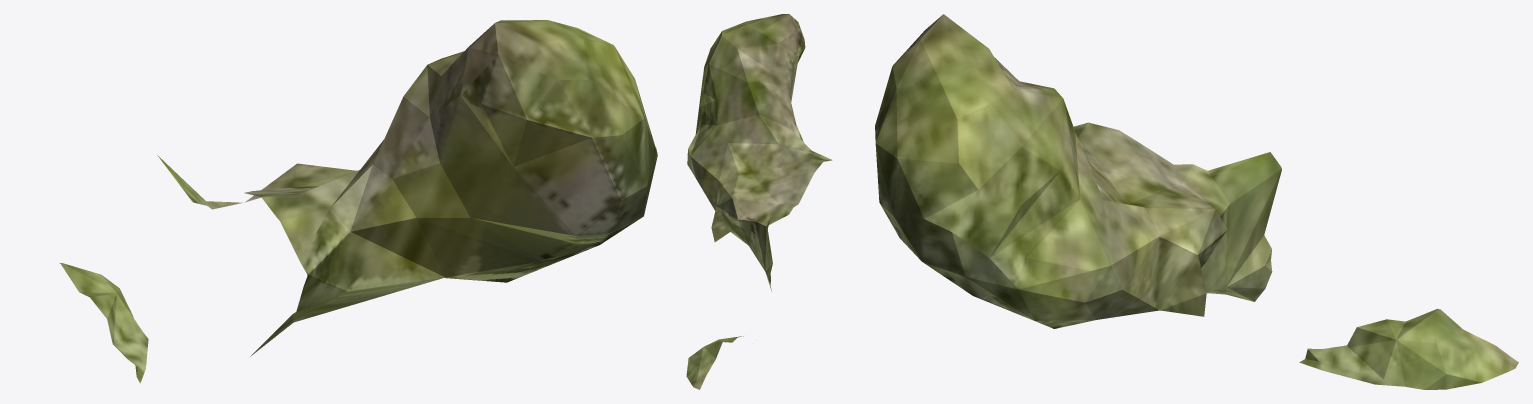
3 views of the same model, side by side, from view 1: azimuth 30°, elevation 25°; view 2: azimuth 150°, elevation 25°; view 3: azimuth 270°, elevation 25° (orthographic). The views are drawn at different scales.
Bounding box in the file's own units: 0.8227 × 1.17 × 1.66.
1 material, 1 textured.
